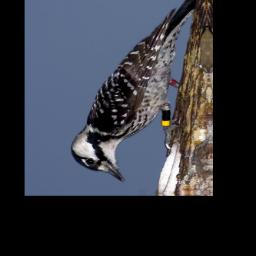Woodpecker: (64, 0, 205, 184)
